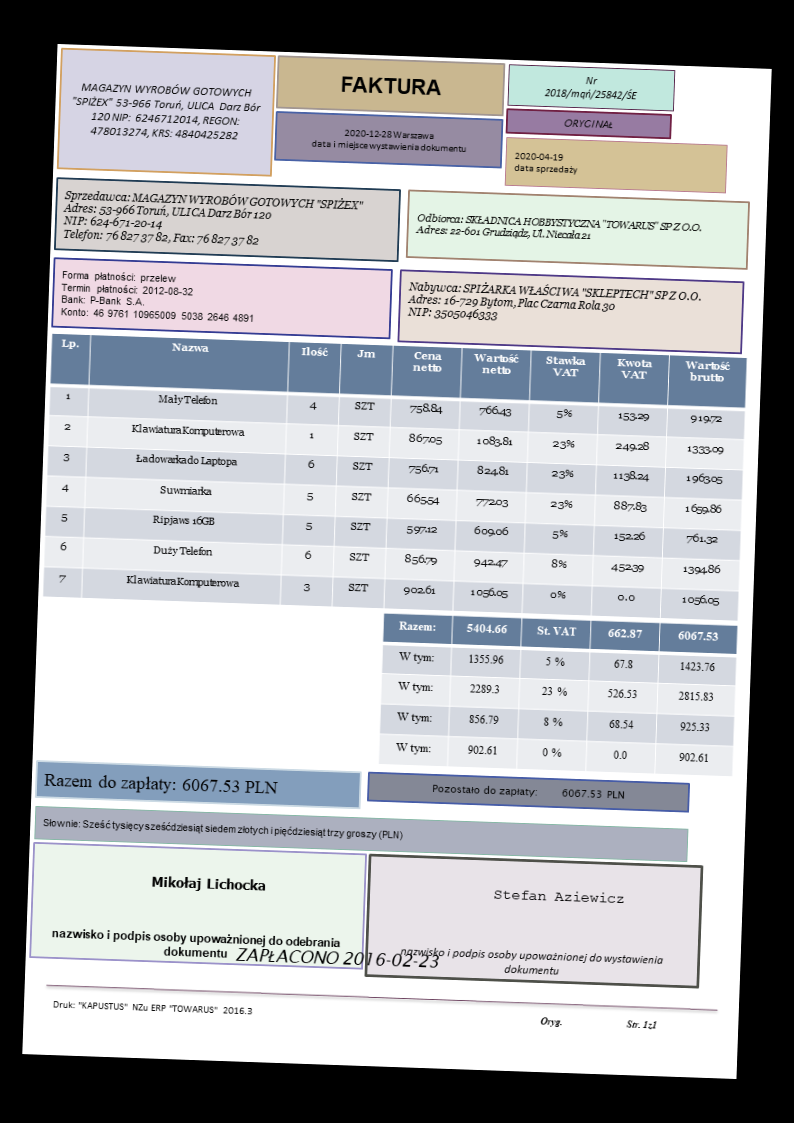Table: (41, 331, 749, 623), (376, 612, 738, 778)
TextBox: (60, 184, 367, 255), (405, 276, 705, 331), (69, 78, 263, 145), (58, 266, 258, 326), (413, 209, 703, 247), (41, 813, 404, 843), (47, 927, 340, 964), (399, 942, 665, 981), (40, 768, 281, 800), (235, 944, 445, 975), (308, 124, 470, 157), (49, 995, 255, 1019), (429, 781, 627, 803), (149, 869, 269, 895), (542, 73, 638, 105), (491, 886, 627, 908), (338, 74, 445, 99), (510, 147, 580, 181), (537, 1013, 660, 1031), (562, 115, 615, 133)
